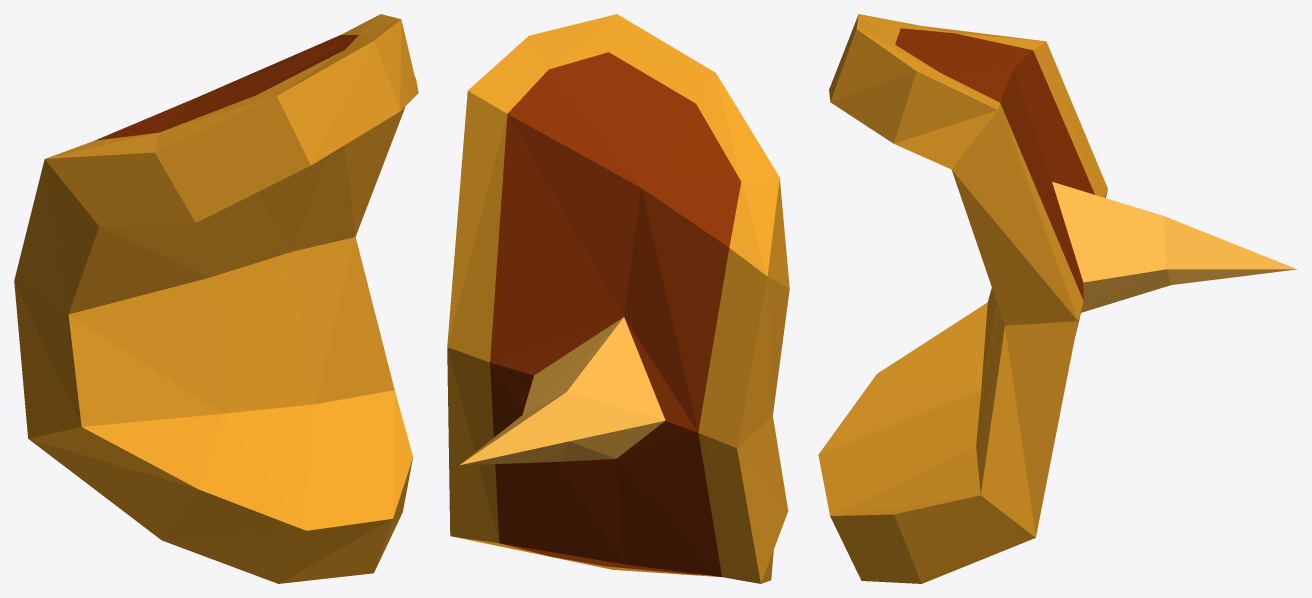
File: Pauldron 03.FBX
3 renders of one model, left to right at view 1: azimuth 30°, elevation 25°; view 2: azimuth 150°, elevation 25°; view 3: azimuth 270°, elevation 25°, orthographic. The views are drawn at different scales.
Visible parts, largest first — view 1: Pauldron 03; view 2: Pauldron 03; view 3: Pauldron 03.
Boxes of the visible parts, left/top/right/bottom form: Pauldron 03: left=14, top=14, right=418, bottom=583; Pauldron 03: left=447, top=14, right=789, bottom=583; Pauldron 03: left=818, top=14, right=1296, bottom=583.
Bounding box in the file's own units: 13.21 × 20.43 × 16.11.
Materials: 1 (1 with a texture image).
